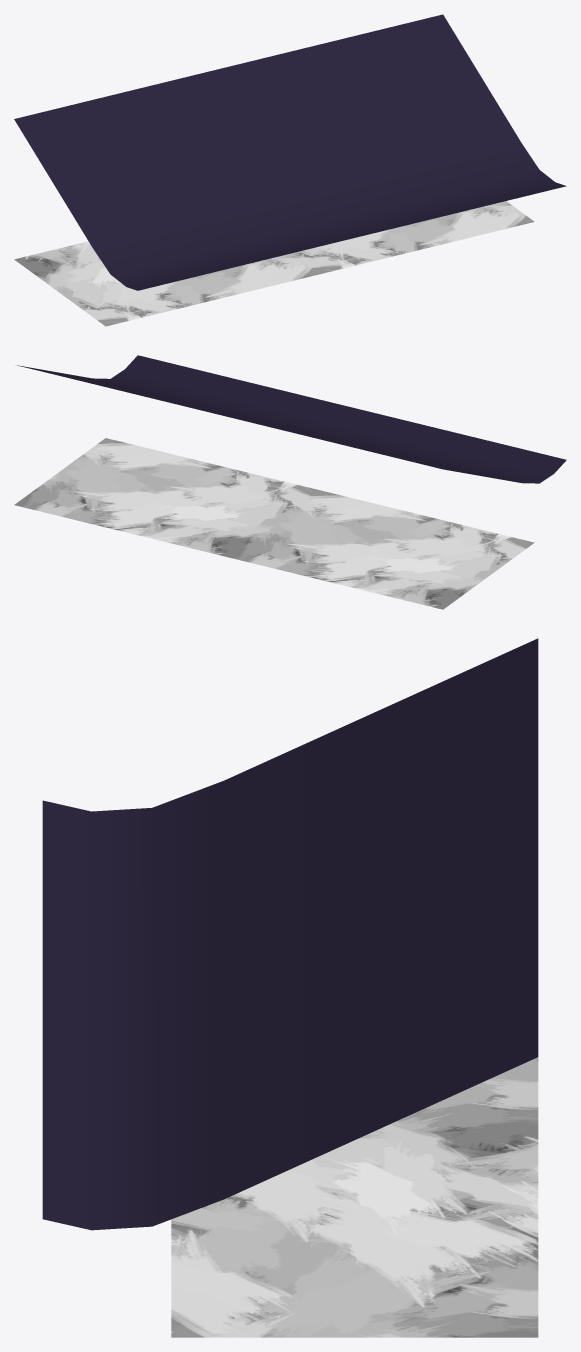
File: BRoofPanel_B.fbx
3 renders of one model, top to bottom at view 1: azimuth 30°, elevation 25°; view 2: azimuth 150°, elevation 25°; view 3: azimuth 270°, elevation 25°, orthographic. The views are drawn at different scales.
Parts seen in each view (by area): view 1: BRoofPannel_B; view 2: BRoofPannel_B; view 3: BRoofPannel_B.
Part boxes in pixels (x1,y1,x2,y2): BRoofPannel_B: [14, 14, 566, 326]; BRoofPannel_B: [14, 355, 566, 609]; BRoofPannel_B: [42, 638, 538, 1337].
Size of the model in its own units: 801 by 250 by 400.
